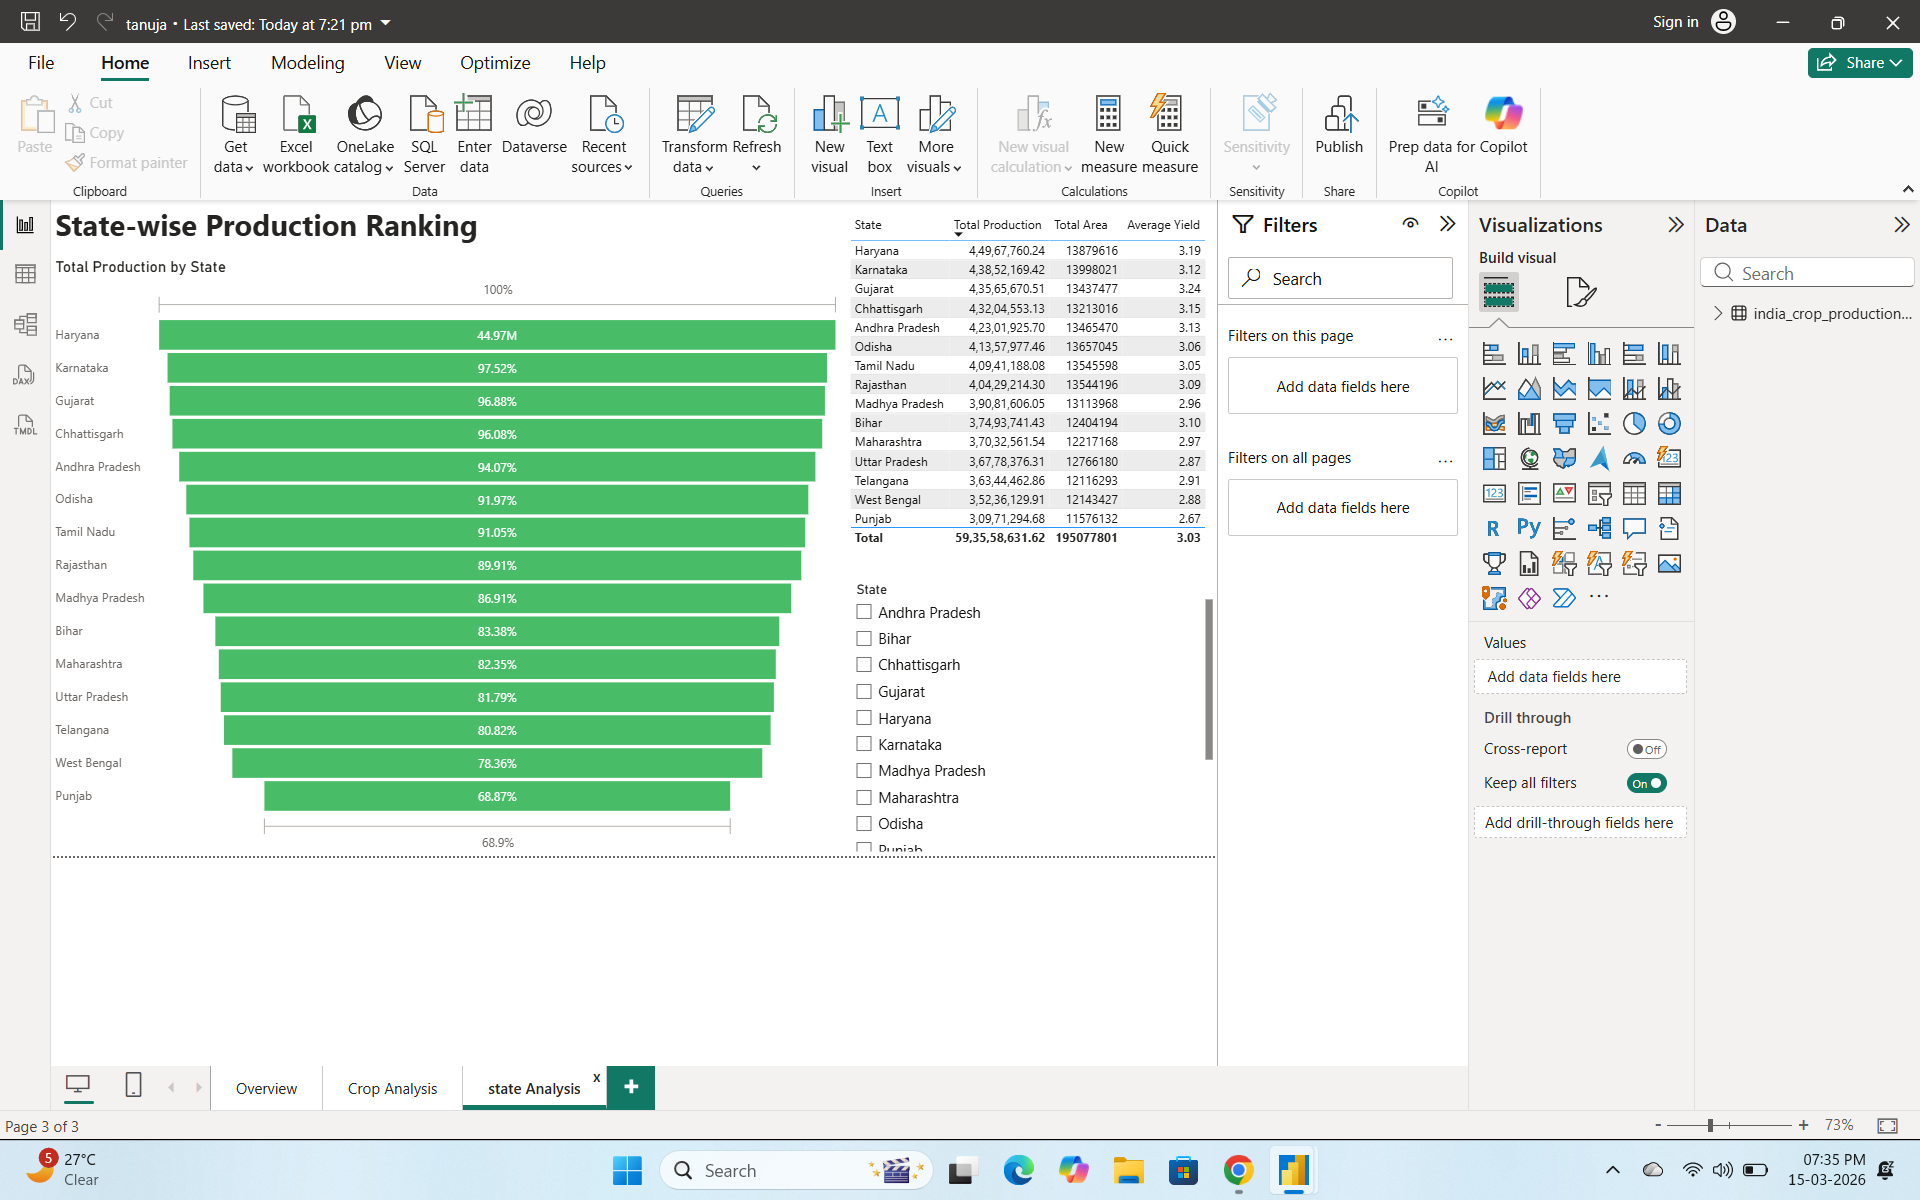

The dashboard page shown, as its layout file describes it:
{"tool":"powerbi","page":{"name":"state Analysis","canvas":[1280,720],"ordinal":2},"visuals":[{"type":"funnel","fields":{"Category":["india_crop_production_2020_2025.State"],"Y":["india_crop_production_2020_2025.Total Production"]},"box":[0,63.1,871.4,657.3],"z":0},{"type":"tableEx","fields":{"Values":["india_crop_production_2020_2025.State","india_crop_production_2020_2025.Total Production","india_crop_production_2020_2025.Total Area","india_crop_production_2020_2025.Average Yield"]},"box":[871.4,11,408.9,403.4],"z":1},{"type":"slicer","fields":{"Values":["india_crop_production_2020_2025.State"]},"box":[871,414,409,306],"z":2},{"type":"textbox","box":[0,0,871.4,53.5],"z":3}]}

Visuals, with their boxes on the page's 1280x720 design canvas (x1, y1, x2, y2). These are canvas units, not pixel positions in the 1920x1200 screenshot, which may show the page scaled, cropped or inside an application window:
funnel - india_crop_production_2020_2025.State x india_crop_production_2020_2025.Total Production: x1=0, y1=63, x2=871, y2=720
tableEx - india_crop_production_2020_2025.State x india_crop_production_2020_2025.Total Production: x1=871, y1=11, x2=1280, y2=414
slicer - india_crop_production_2020_2025.State: x1=871, y1=414, x2=1280, y2=720
textbox: x1=0, y1=0, x2=871, y2=54
